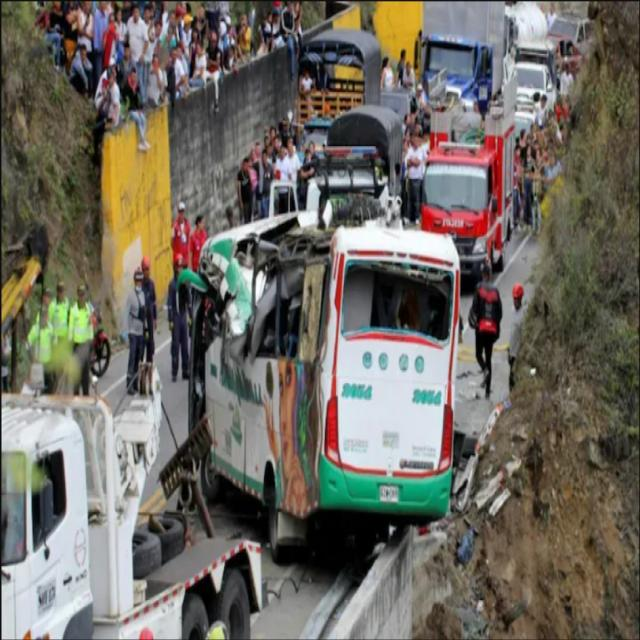accident: (189, 213, 460, 558)
truck: (0, 367, 262, 639)
